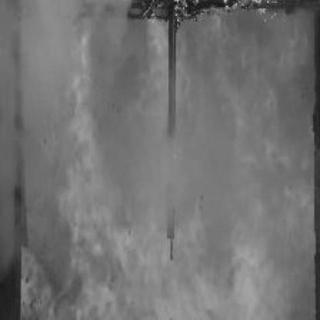Fire: (19, 7, 317, 320)
